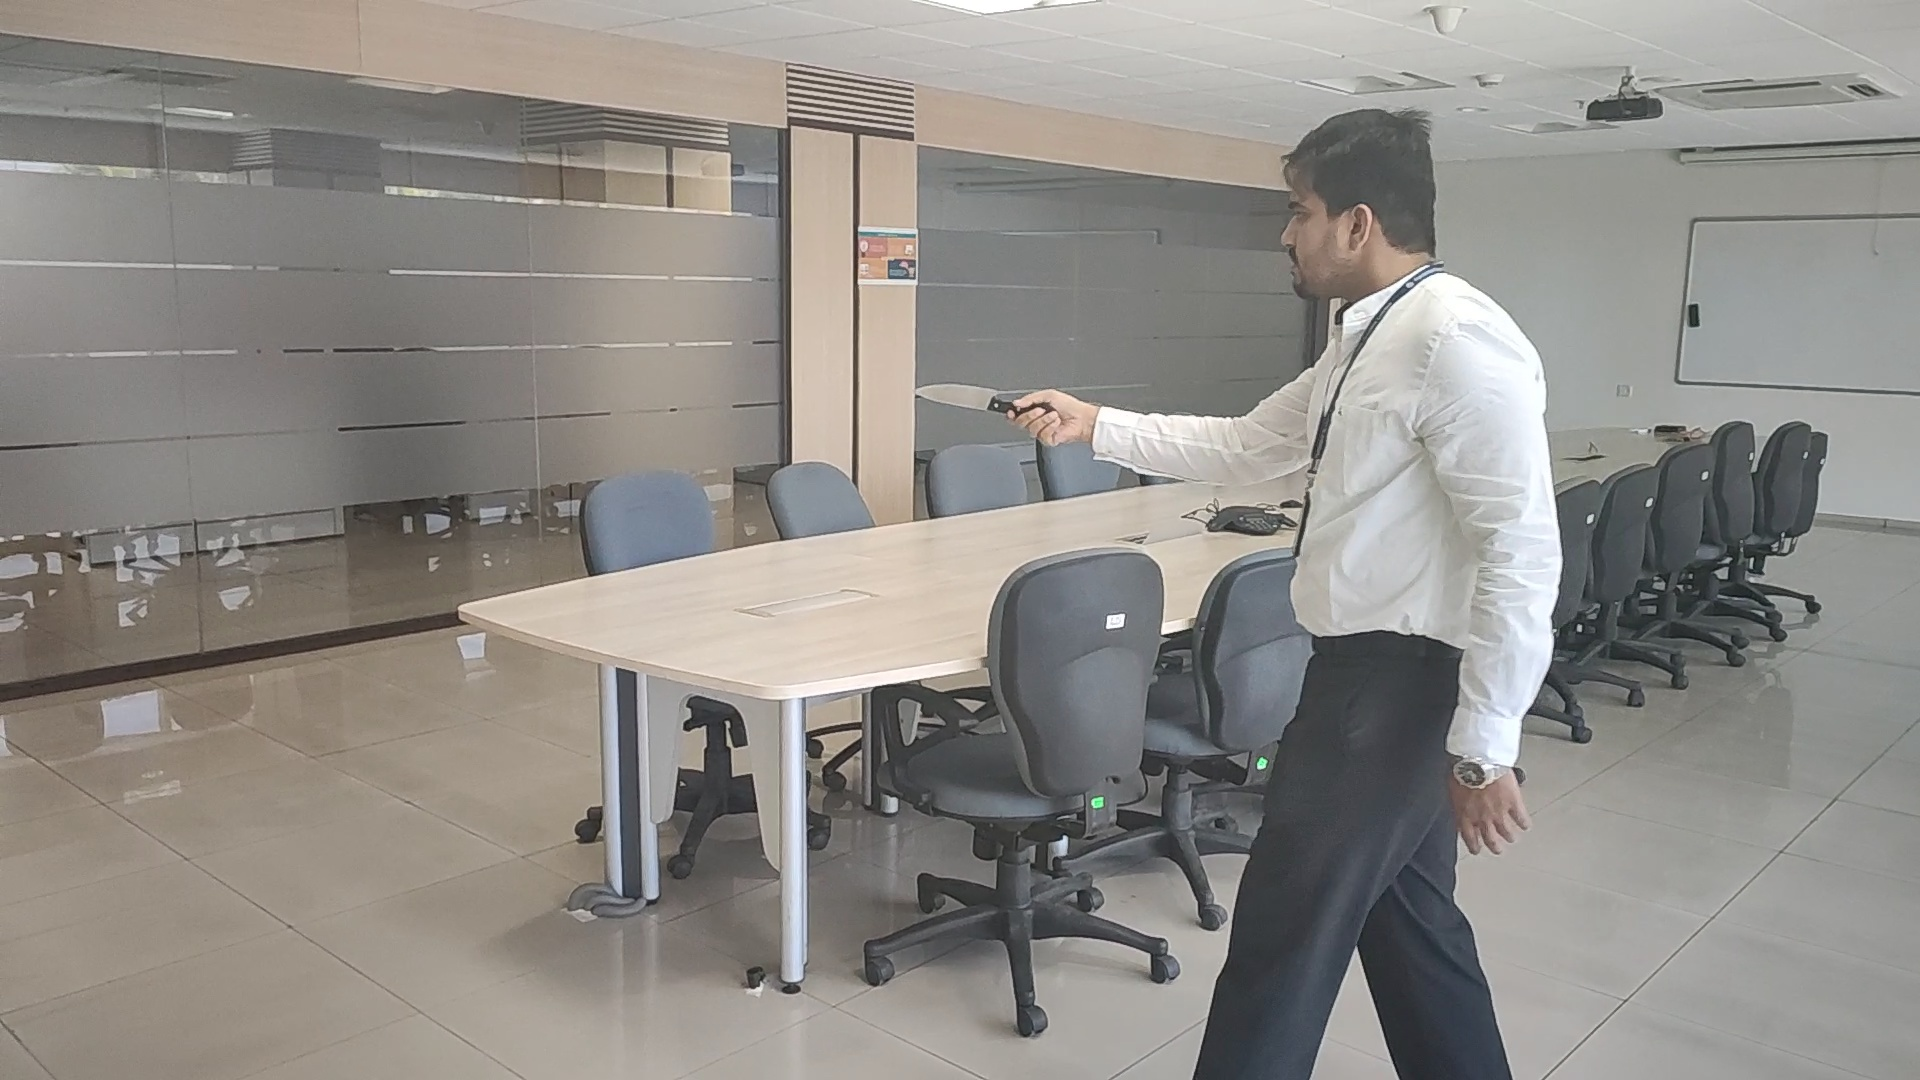knife: (913, 381, 1005, 415)
